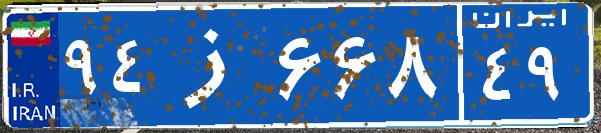4: (475, 38, 525, 113), (110, 28, 158, 105)
6: (273, 28, 330, 110), (330, 28, 385, 110)
8: (385, 28, 445, 110)
9: (57, 26, 110, 107), (525, 38, 570, 115)
ز: (158, 15, 273, 115)
